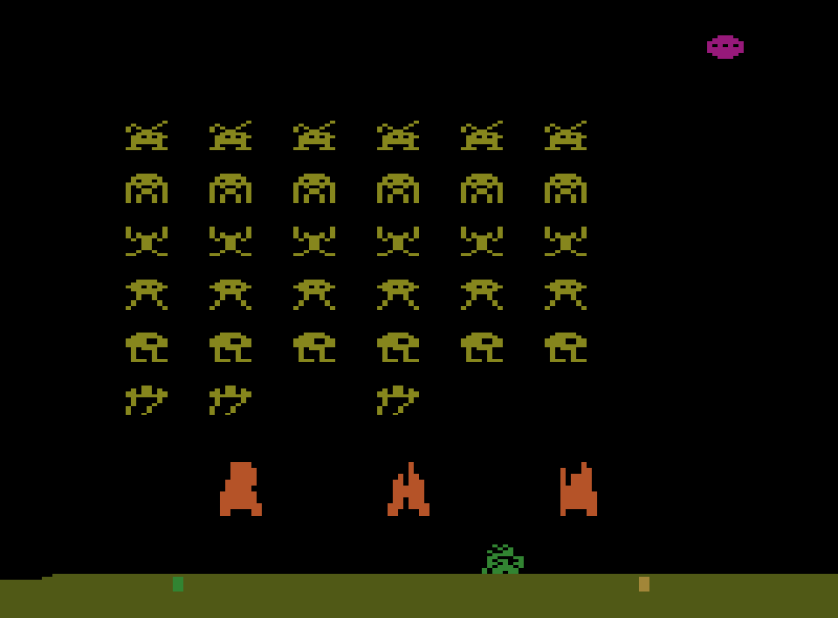bonus: (706, 33, 744, 61)
invader1: (207, 117, 254, 152), (124, 118, 170, 152), (459, 120, 507, 152), (543, 118, 588, 152), (292, 119, 338, 152), (376, 120, 421, 152)
invader2: (289, 170, 337, 206), (207, 170, 253, 206), (458, 170, 505, 205), (124, 170, 169, 205), (375, 170, 420, 205), (542, 171, 588, 205)
invader3: (122, 223, 170, 258), (207, 223, 254, 257), (375, 223, 420, 258), (292, 224, 338, 258), (459, 224, 505, 257), (543, 225, 588, 258)
invader4: (375, 277, 421, 314), (208, 276, 253, 312), (123, 277, 170, 311), (292, 276, 337, 311), (543, 277, 588, 312), (461, 278, 504, 312)
invader5: (543, 329, 589, 365), (208, 330, 253, 365), (125, 329, 170, 363), (292, 330, 337, 364), (376, 330, 420, 364), (459, 331, 504, 364)
invader6: (375, 384, 420, 417), (208, 384, 252, 417), (125, 383, 168, 416)
player: (480, 542, 525, 575)
